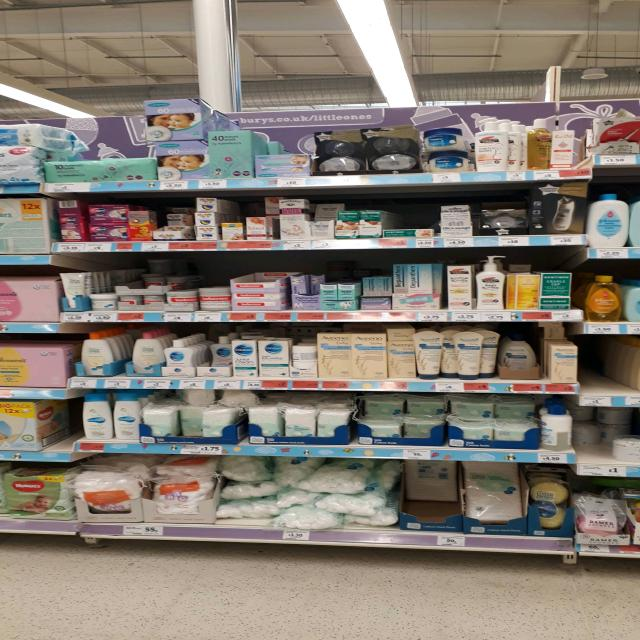empty: (577, 340, 635, 398), (46, 402, 82, 462)
